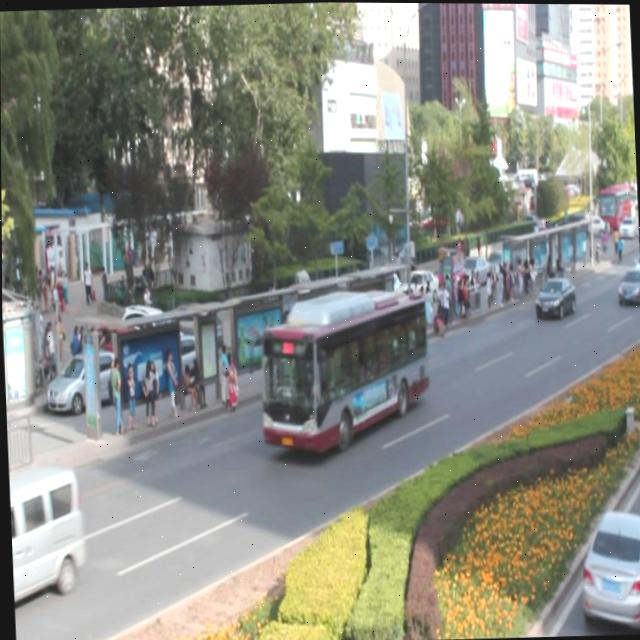car: (532, 272, 575, 316), (613, 264, 640, 301)
truck: (8, 463, 83, 603)
van: (257, 285, 430, 444)
